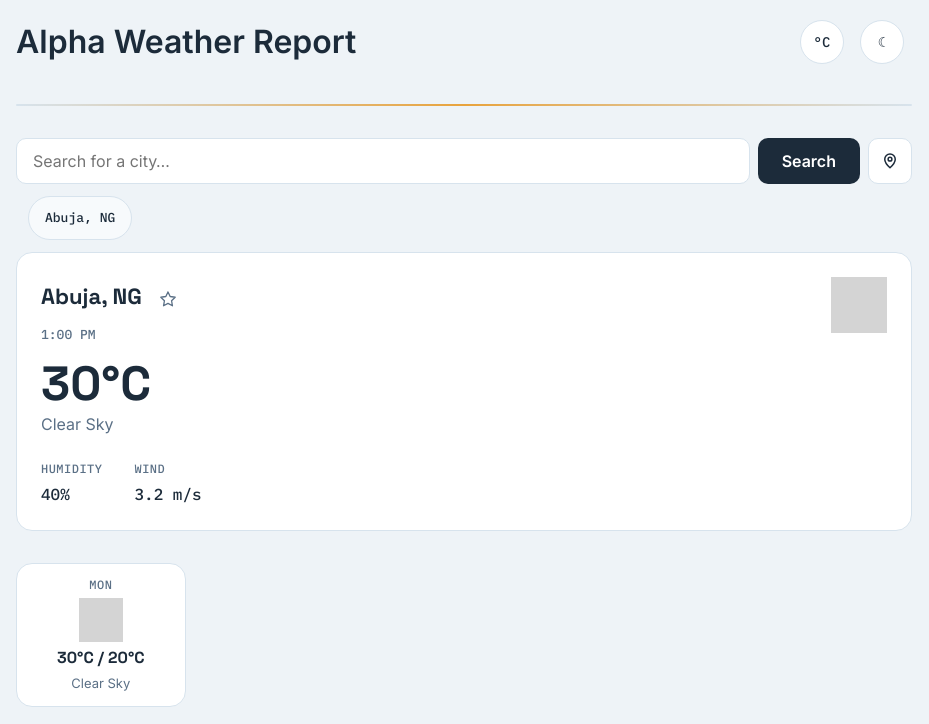
it: App — unit toggle integration (Step 12) › flips rendered temp strings on both CurrentWeatherCard and ForecastCards, keeps wind in m/s, and does not re-fetch
Check: the text "30°C" is shown, box [41,353,151,414]
Check: the text "30°C / 20°C" is shown, box [57,647,144,668]
Click the button named "Switch to Fahrenheit" at (822, 42), box [800,20,844,64]
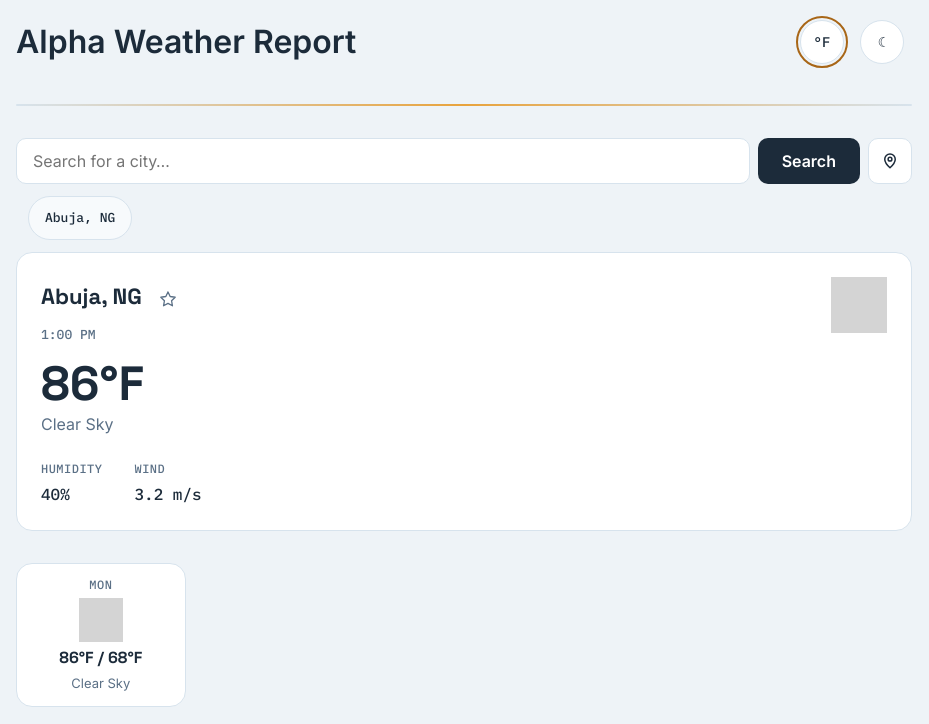
Check: the text "3.2 m/s" is shown, box [134,482,202,506]
Check: the text "86°F" is shown, box [41,353,144,414]
Check: the text "86°F / 68°F" is shown, box [59,647,142,668]
